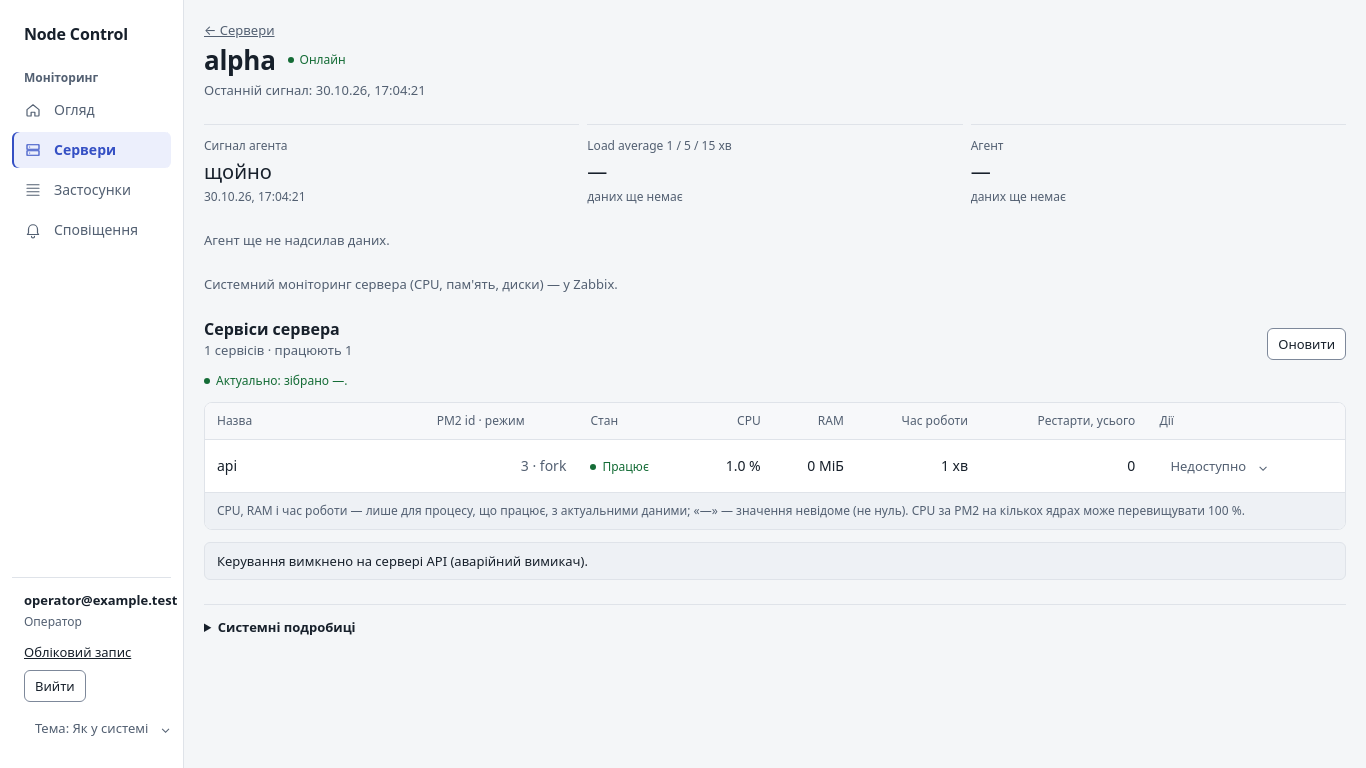
Test: log viewer › target not allowed → no logs item; this process's cause is in its row menu
The image size is (1366, 768).
Click the button with aria-label "Чому недоступно: api". click: x=1219, y=466
box: [1159,450,1279,482]
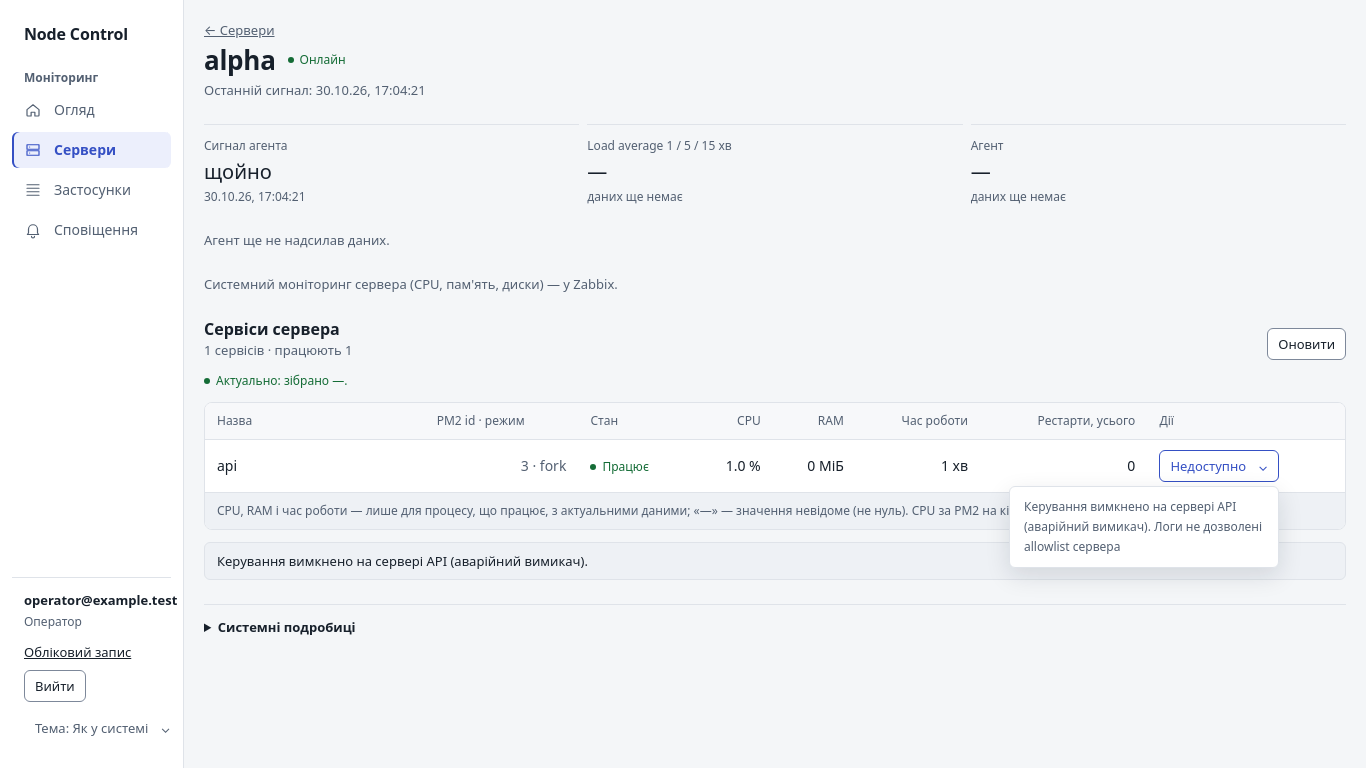
Check: the text "Логи не дозволені allowlist сервера" is shown, box [1024,498,1262,554]
